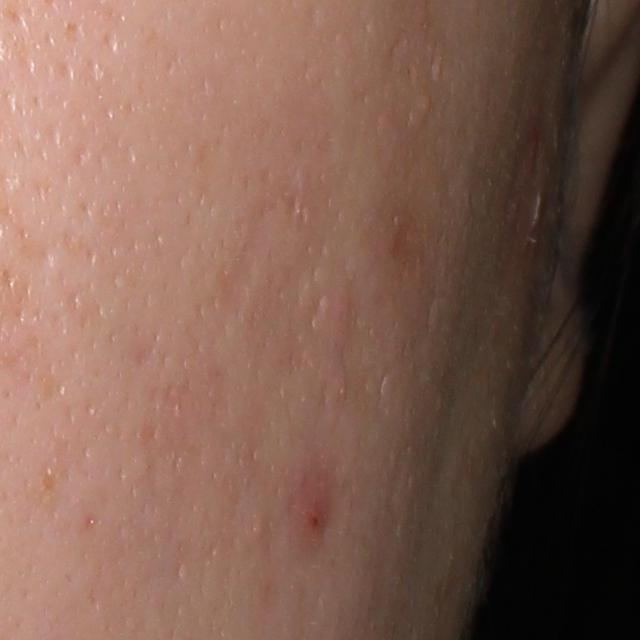comedo: (420, 94, 432, 112)
papule: (296, 493, 328, 539)
